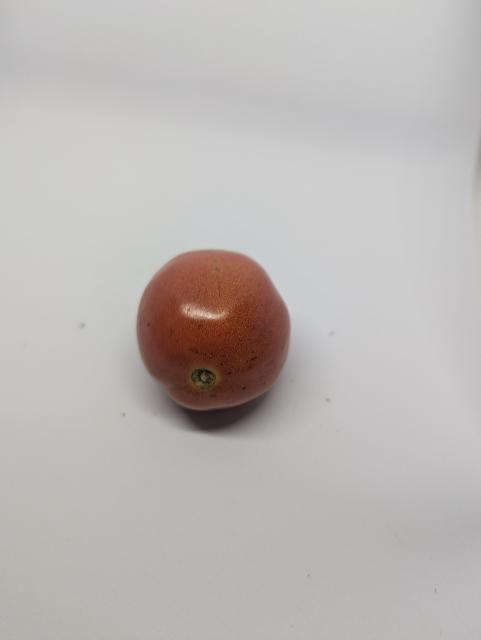red: (137, 244, 299, 426)
